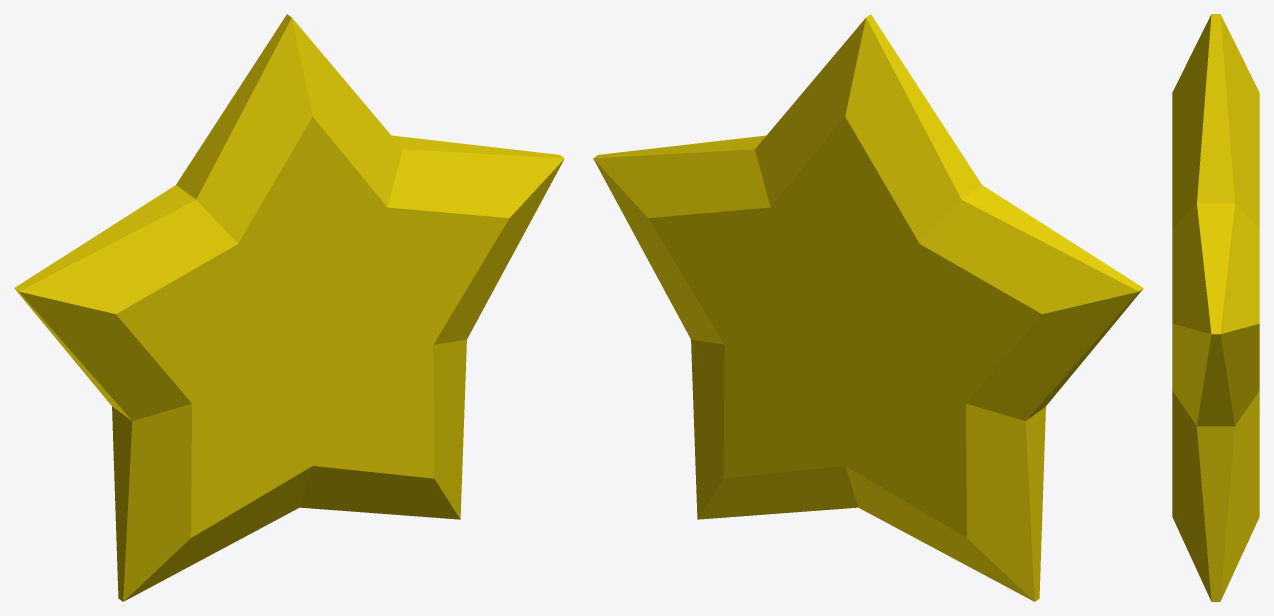
Rendered from Star.fbx.
3 renders of one model, left to right at view 1: azimuth 30°, elevation 25°; view 2: azimuth 150°, elevation 25°; view 3: azimuth 270°, elevation 25°, orthographic. The views are drawn at different scales.
Parts seen in each view (by area): view 1: Star; view 2: Star; view 3: Star.
Boxes of the visible parts, x1=… form: Star: x1=14, y1=14, x2=564, y2=601; Star: x1=593, y1=14, x2=1143, y2=601; Star: x1=1172, y1=14, x2=1259, y2=601.
Size of the model in its own units: 43.44 by 6.41 by 41.31.
